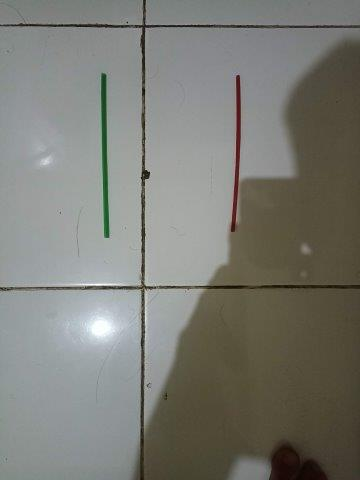sedotan: (231, 75, 241, 232), (101, 74, 110, 238)
